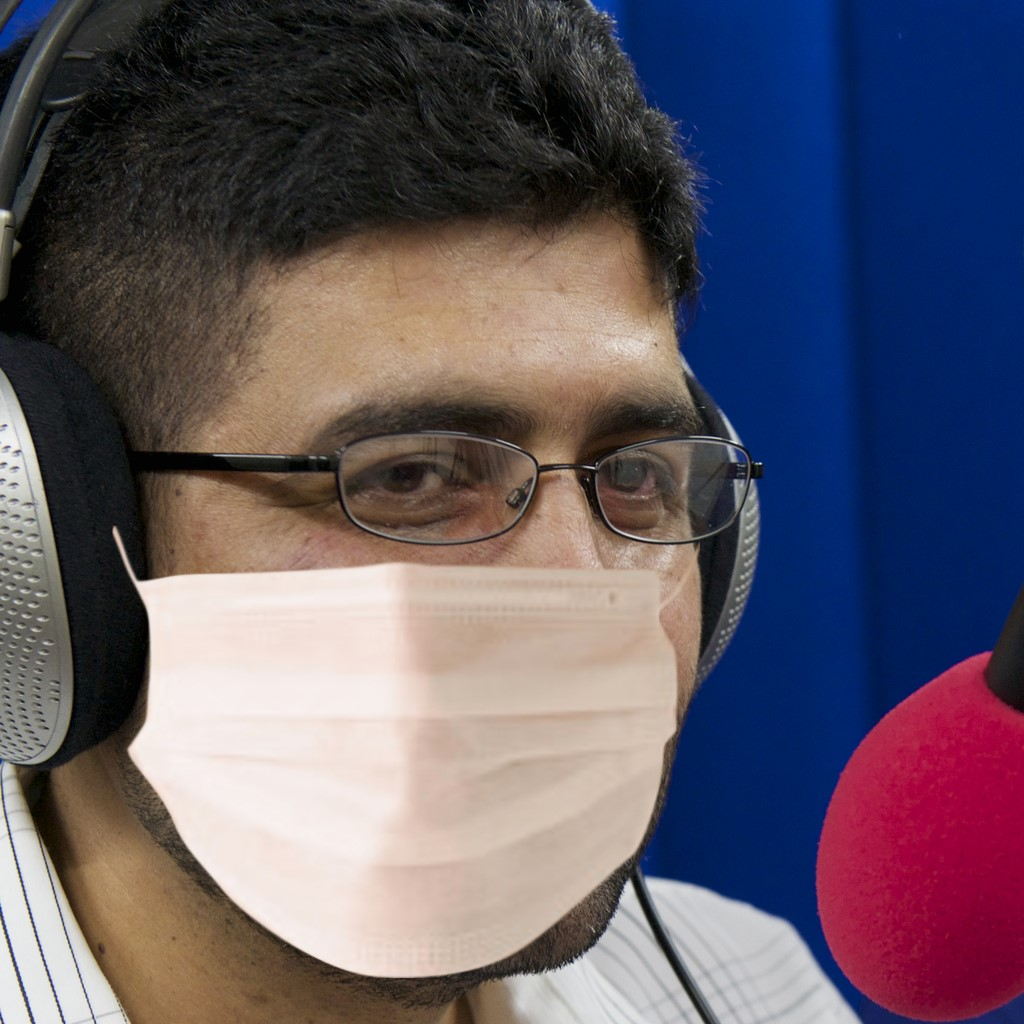con_mascara: (53, 194, 743, 975)
